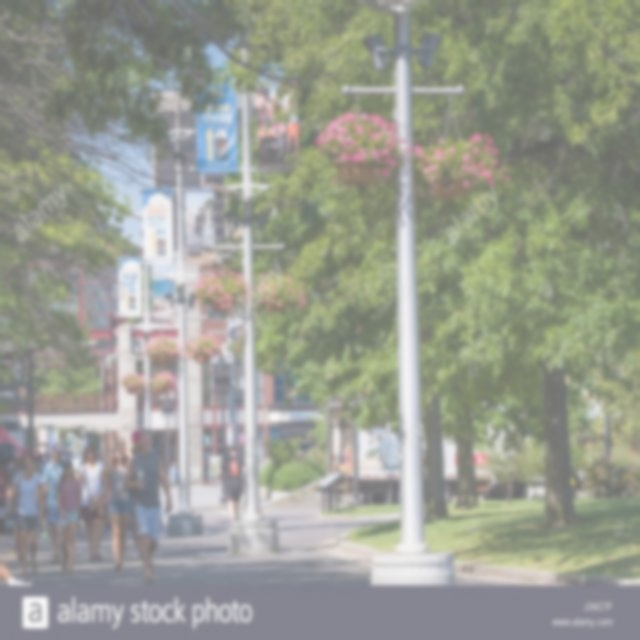pessoa: (123, 427, 173, 583), (97, 436, 135, 574), (4, 450, 44, 577), (75, 442, 109, 562), (257, 72, 297, 166), (40, 442, 70, 564), (56, 458, 82, 576), (6, 443, 27, 564), (124, 428, 142, 560), (217, 444, 246, 522), (0, 555, 35, 606), (186, 204, 213, 256), (100, 460, 110, 537), (421, 436, 429, 516), (149, 293, 175, 314), (76, 510, 86, 540), (168, 461, 179, 487), (38, 451, 51, 466)
